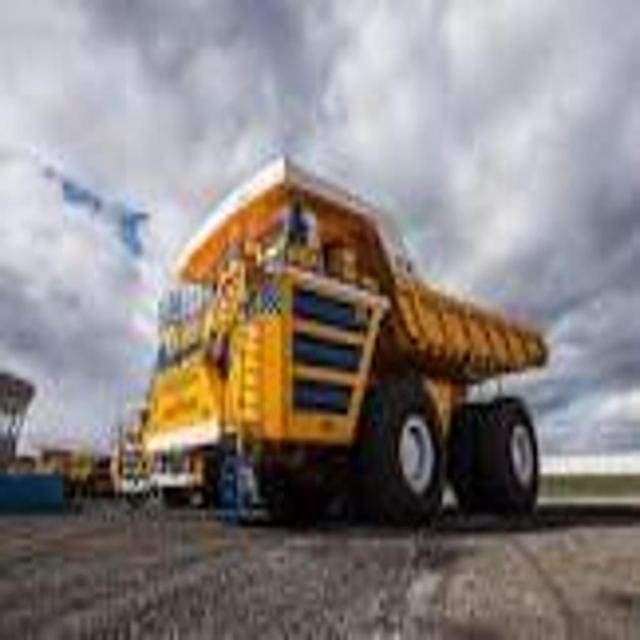dump_truck: (111, 149, 551, 536)
